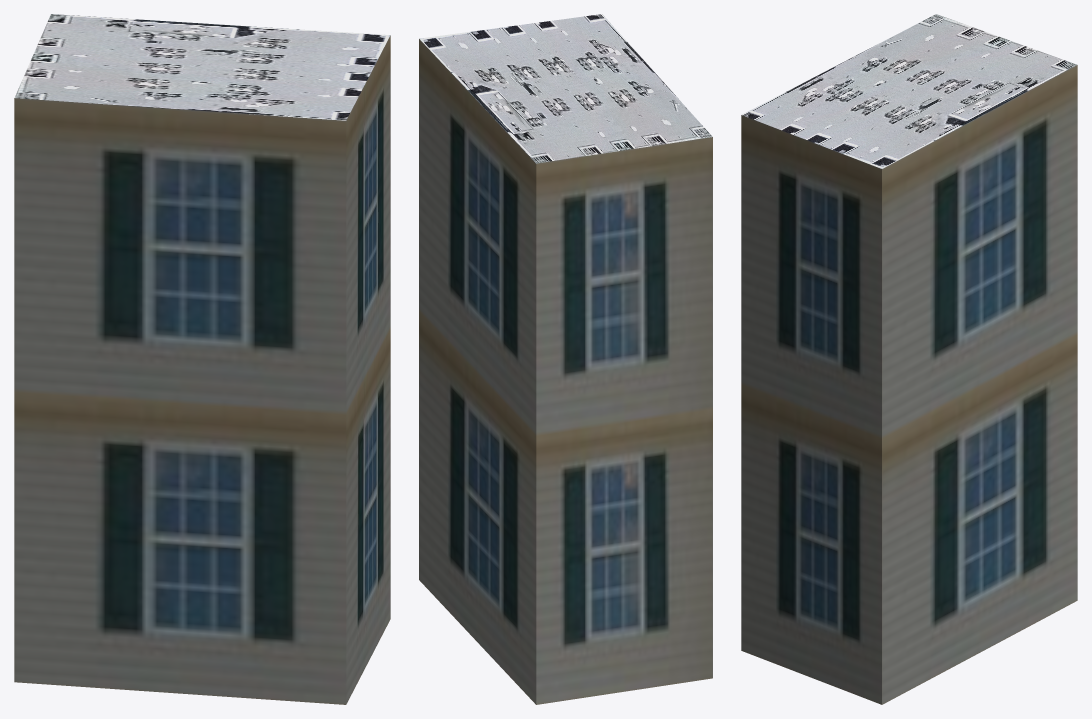
File: ResTex__4439.fbx
3 views of the same model, side by side, from view 1: azimuth 30°, elevation 25°; view 2: azimuth 150°, elevation 25°; view 3: azimuth 270°, elevation 25° (orthographic). The views are drawn at different scales.
Parts seen in each view (by area): view 1: CityEngineMaterial_7_m, CityEngineMaterial_4_m; view 2: CityEngineMaterial_7_m, CityEngineMaterial_4_m; view 3: CityEngineMaterial_7_m, CityEngineMaterial_4_m.
Part boxes in pixels (x1,y1,x2,y2): CityEngineMaterial_7_m: (14, 35, 390, 704); CityEngineMaterial_4_m: (14, 14, 390, 120); CityEngineMaterial_7_m: (419, 39, 712, 704); CityEngineMaterial_4_m: (419, 14, 712, 163); CityEngineMaterial_7_m: (741, 65, 1077, 704); CityEngineMaterial_4_m: (742, 14, 1077, 168).
Size of the model in its own units: 3.73 by 6 by 3.41.
Materials: 2 (2 with a texture image).
